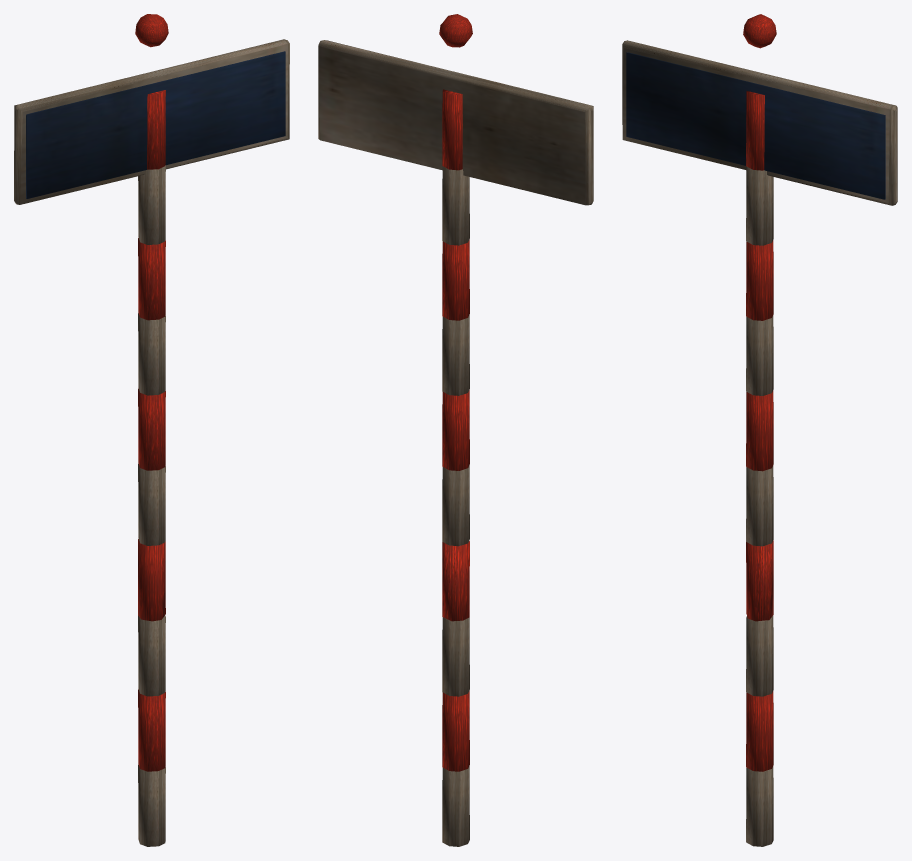
File: cot_bien_ten_pho_lod1.glb
The picture shows the model from 3 angles, left to right: view 1: azimuth 30°, elevation 25°; view 2: azimuth 150°, elevation 25°; view 3: azimuth 330°, elevation 25°; orthographic projection.
Parts seen in each view (by area): view 1: cot_bien_ten_pho.001; view 2: cot_bien_ten_pho.001; view 3: cot_bien_ten_pho.001.
Boxes of the visible parts, bbox=[...] form: cot_bien_ten_pho.001: bbox=[14, 14, 289, 846]; cot_bien_ten_pho.001: bbox=[318, 14, 593, 846]; cot_bien_ten_pho.001: bbox=[622, 14, 897, 846].
Size of the model in its own units: 1.03 by 2.97 by 0.1101.
2 materials, 2 textured.
